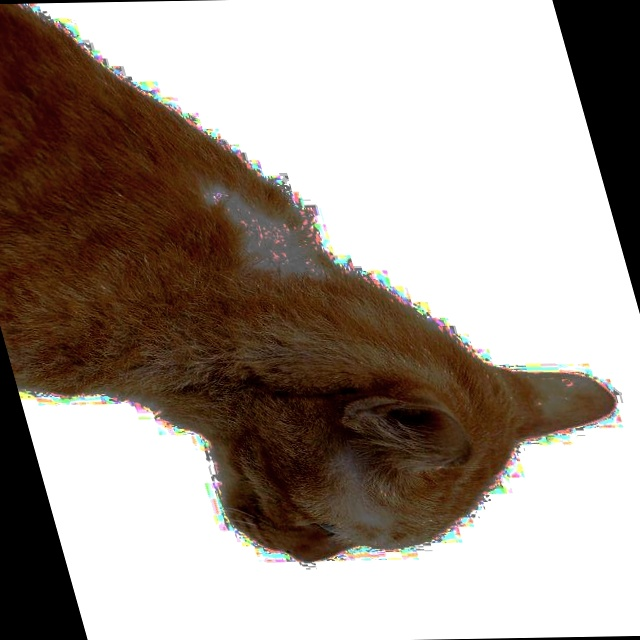hairloss: (226, 200, 315, 281)
